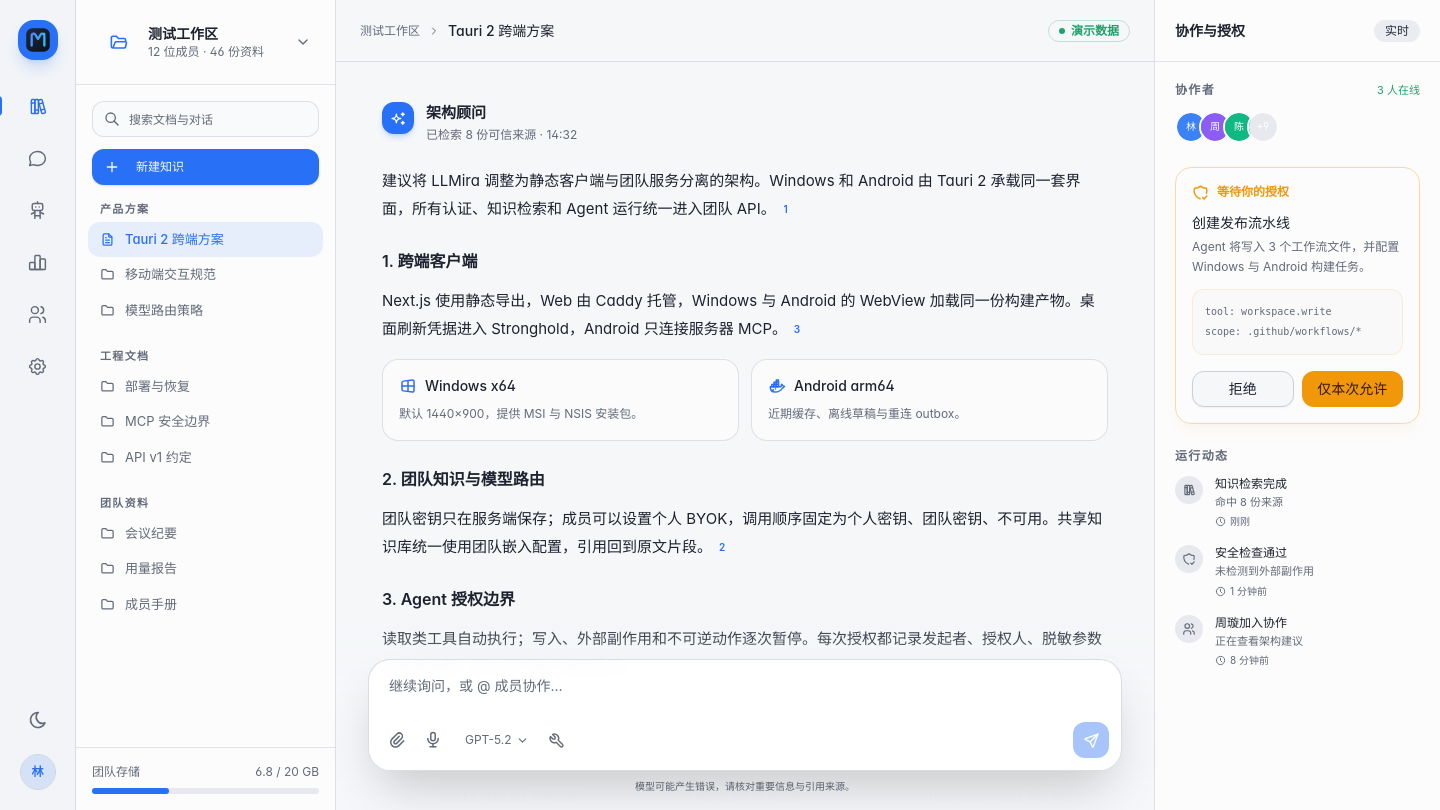
Test: TeamWorkbench › opens a located citation
Click the button named "查看来源 1": (786, 208) [776,198,796,218]
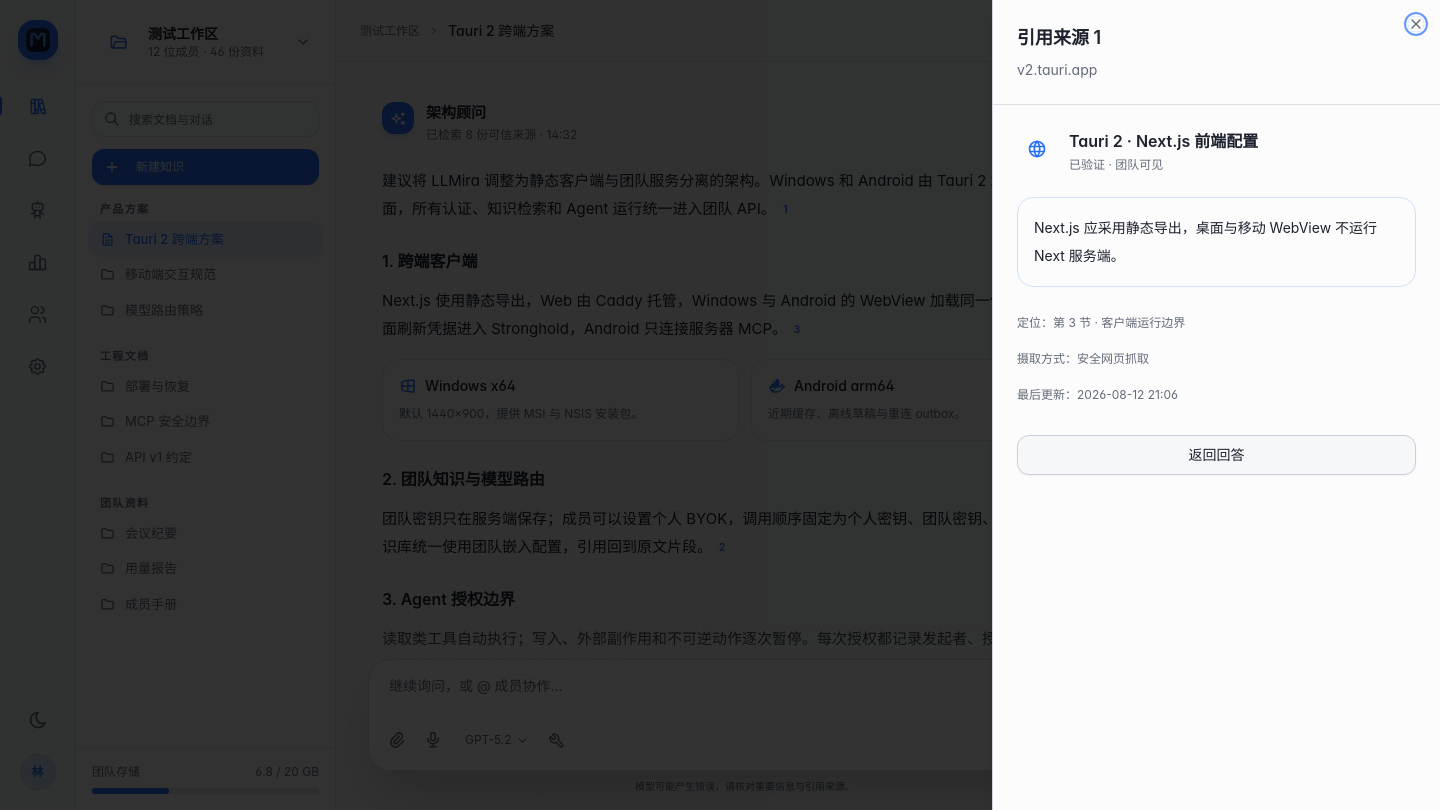
Result: the dialog shows "引用来源 1" at [992,0,1439,809]
